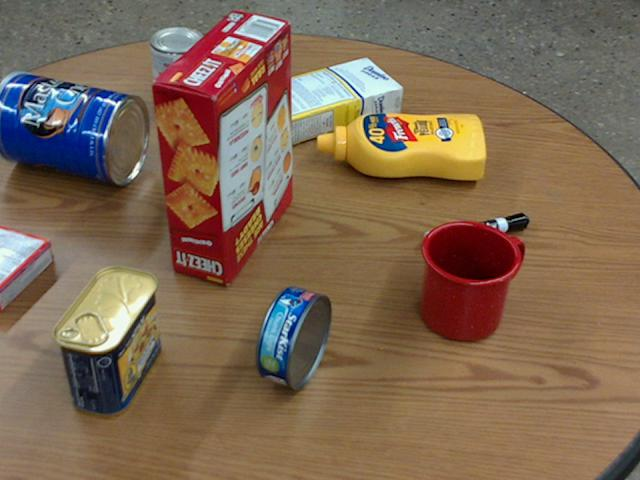cracker_box: (150, 12, 290, 285)
gelatin_box: (0, 225, 54, 311)
large_marker: (424, 213, 529, 248)
master_chef_can: (0, 72, 147, 185)
mug: (420, 219, 523, 341)
mustard_bottle: (316, 114, 486, 178)
potted_meat_can: (54, 265, 159, 417)
sugar_box: (249, 55, 404, 147)
tomato_soup_can: (148, 26, 207, 126)
tuna_fish_can: (255, 286, 332, 389)
